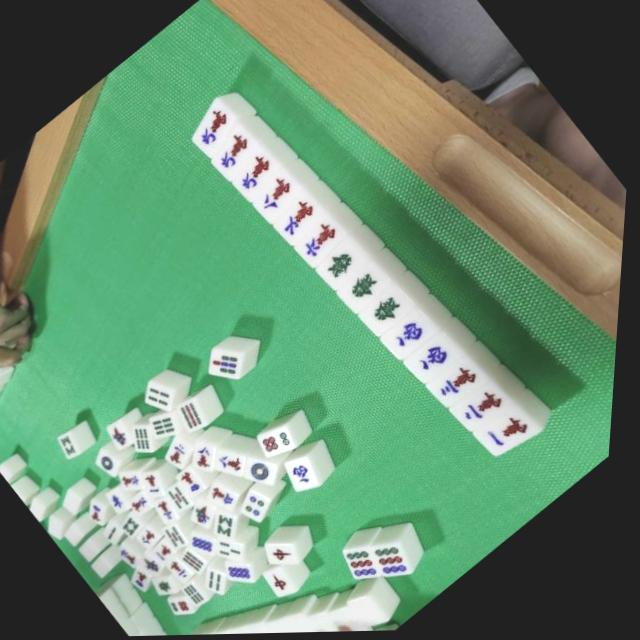hdg: (366, 286, 417, 335), (317, 240, 368, 289), (340, 264, 392, 312)
hww: (386, 313, 436, 360), (411, 337, 460, 383)
sc1: (482, 406, 540, 460)
sc2: (455, 380, 514, 436)
sc3: (434, 359, 488, 409)
sc6: (295, 217, 349, 267)
sc7: (272, 193, 326, 243)
sc8: (253, 172, 303, 218)
sc9: (209, 127, 261, 176), (187, 104, 238, 152), (232, 152, 280, 197)
